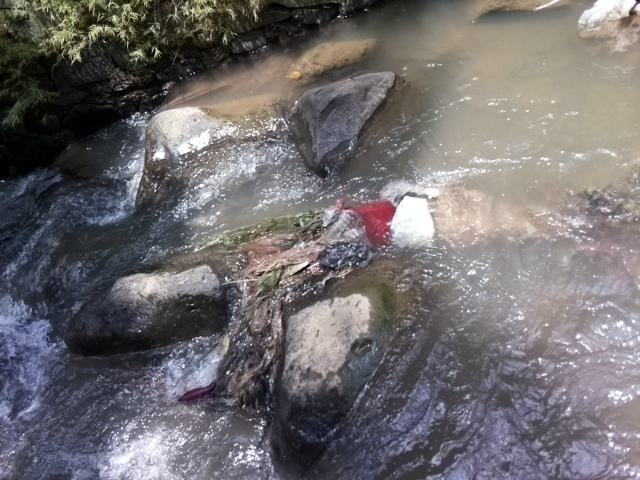Sampah_Plastik: (181, 184, 439, 413)
